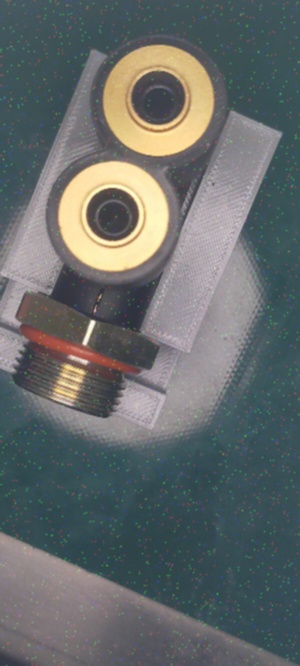craze: (90, 287, 103, 315)
